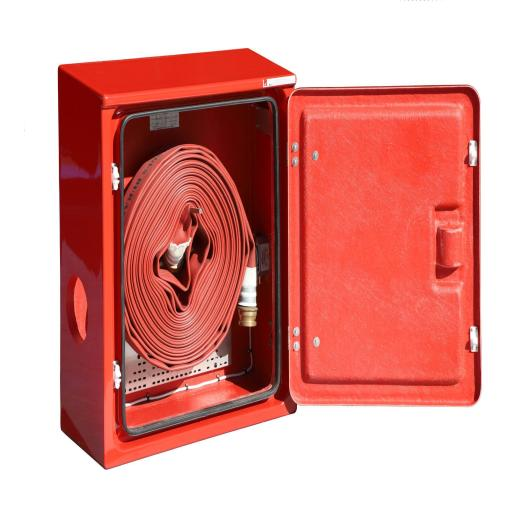fire_hose: (38, 17, 501, 486)
